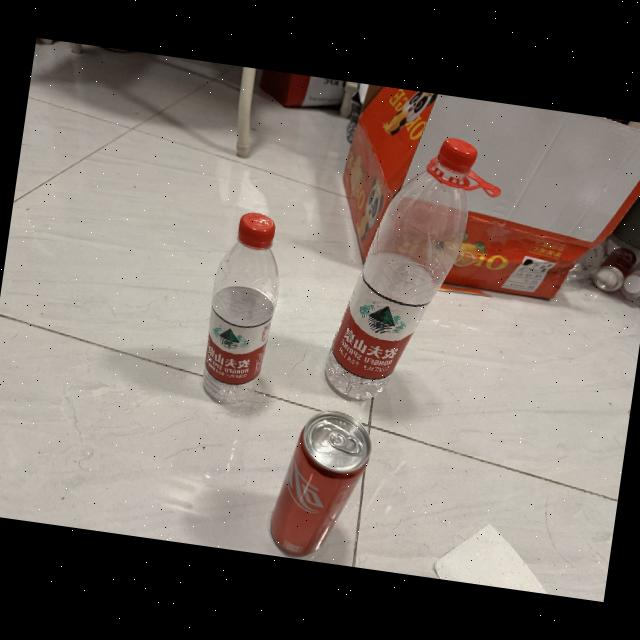Cola: (255, 398, 388, 568)
